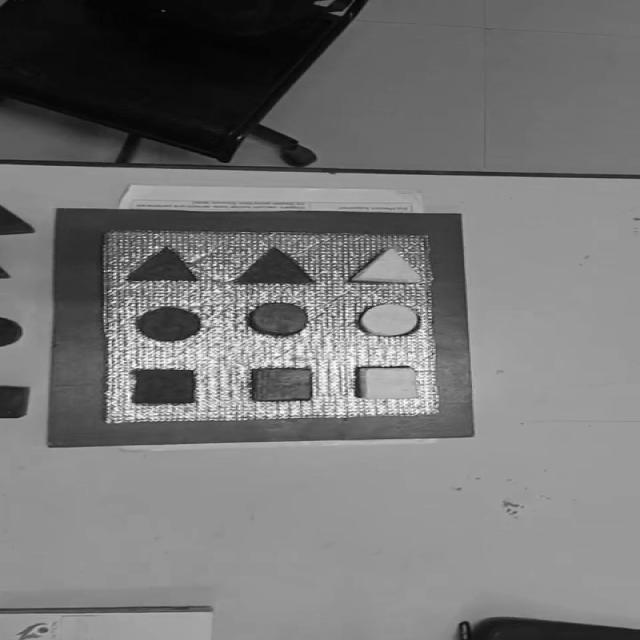bcircle: (0, 316, 23, 348)
bcube: (0, 384, 31, 418)
mtcircle: (135, 306, 204, 341), (357, 302, 422, 338)
mtcube: (130, 368, 200, 405)
mttriangle: (233, 246, 317, 285), (125, 245, 203, 283)
rcircle: (248, 301, 311, 337)
rcube: (252, 367, 317, 402)
rtriangle: (1, 200, 36, 236)
wb: (98, 230, 443, 424)
ycube: (354, 365, 422, 401)
ytriangle: (348, 246, 425, 285)
